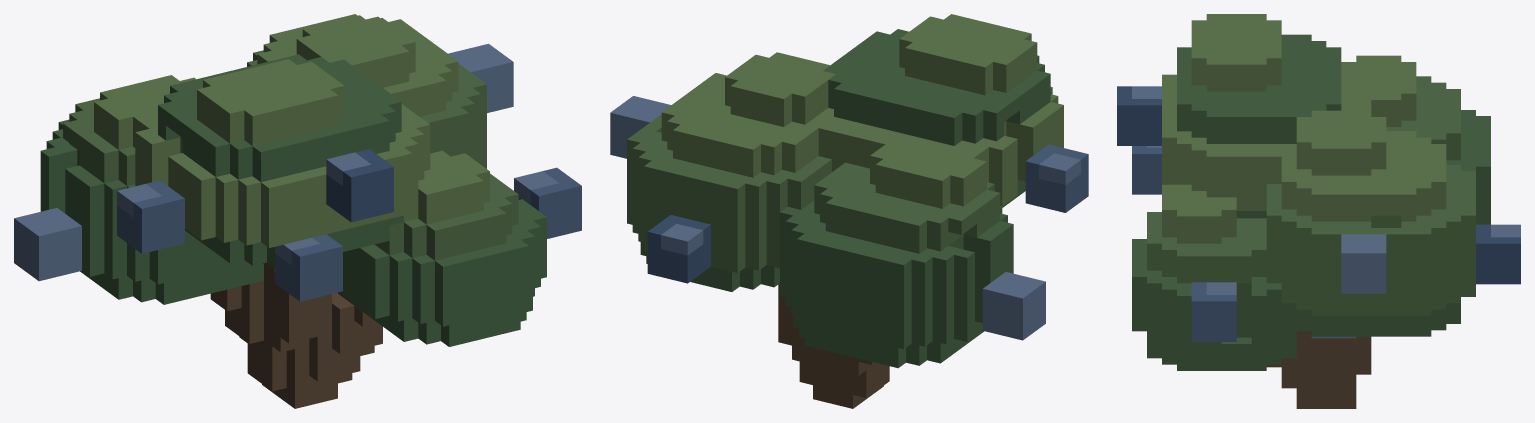
File: blueberry_summer.glb
The picture shows the model from 3 angles, left to right: view 1: azimuth 30°, elevation 25°; view 2: azimuth 150°, elevation 25°; view 3: azimuth 270°, elevation 25°; orthographic projection. The views are drawn at different scales.
Parts seen in each view (by area): view 1: VoxelVisual; view 2: VoxelVisual; view 3: VoxelVisual.
Part boxes in pixels (left/top/right/bottom): VoxelVisual: left=14, top=14, right=581, bottom=408; VoxelVisual: left=610, top=14, right=1088, bottom=408; VoxelVisual: left=1117, top=14, right=1520, bottom=408.
Size of what is drawn, in the model's own units: 2 by 1.5 by 1.69.
